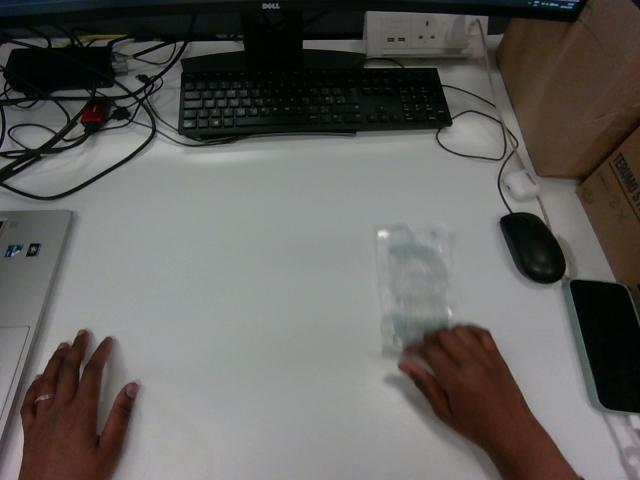gallipot: (376, 225, 451, 352)
